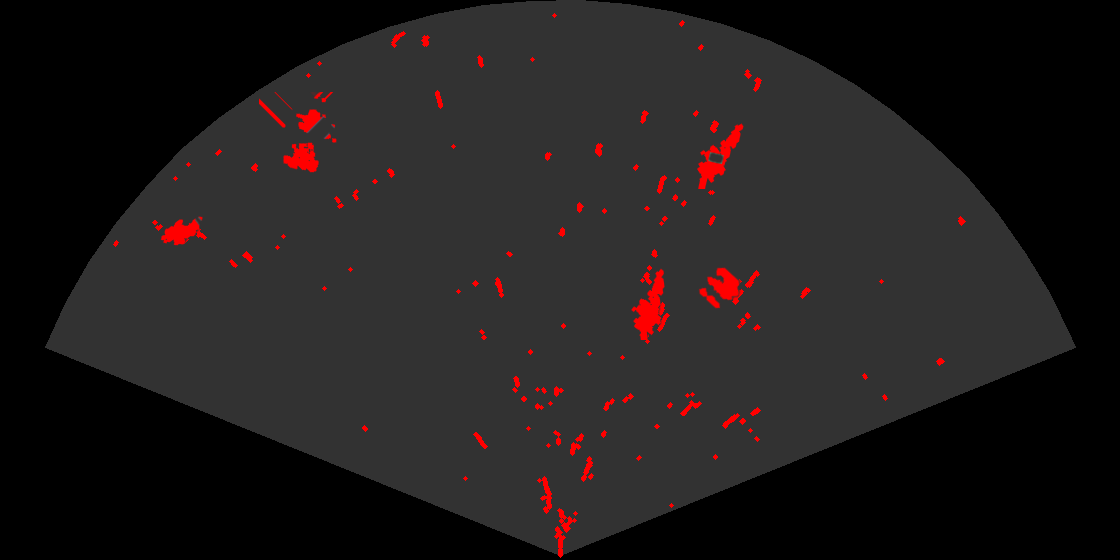AUV: (159, 215, 204, 247)
ball: (697, 266, 741, 310)
cage: (259, 92, 338, 174)
frogman: (696, 122, 745, 189), (630, 267, 666, 340)
